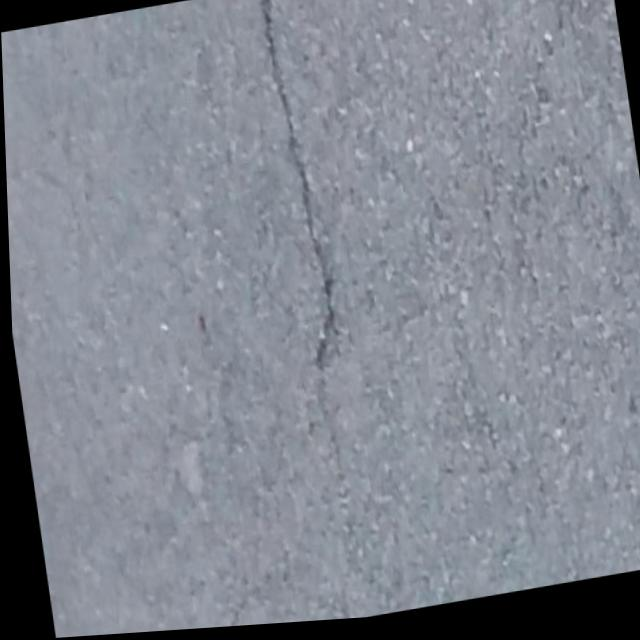Crack: (239, 0, 368, 430)
